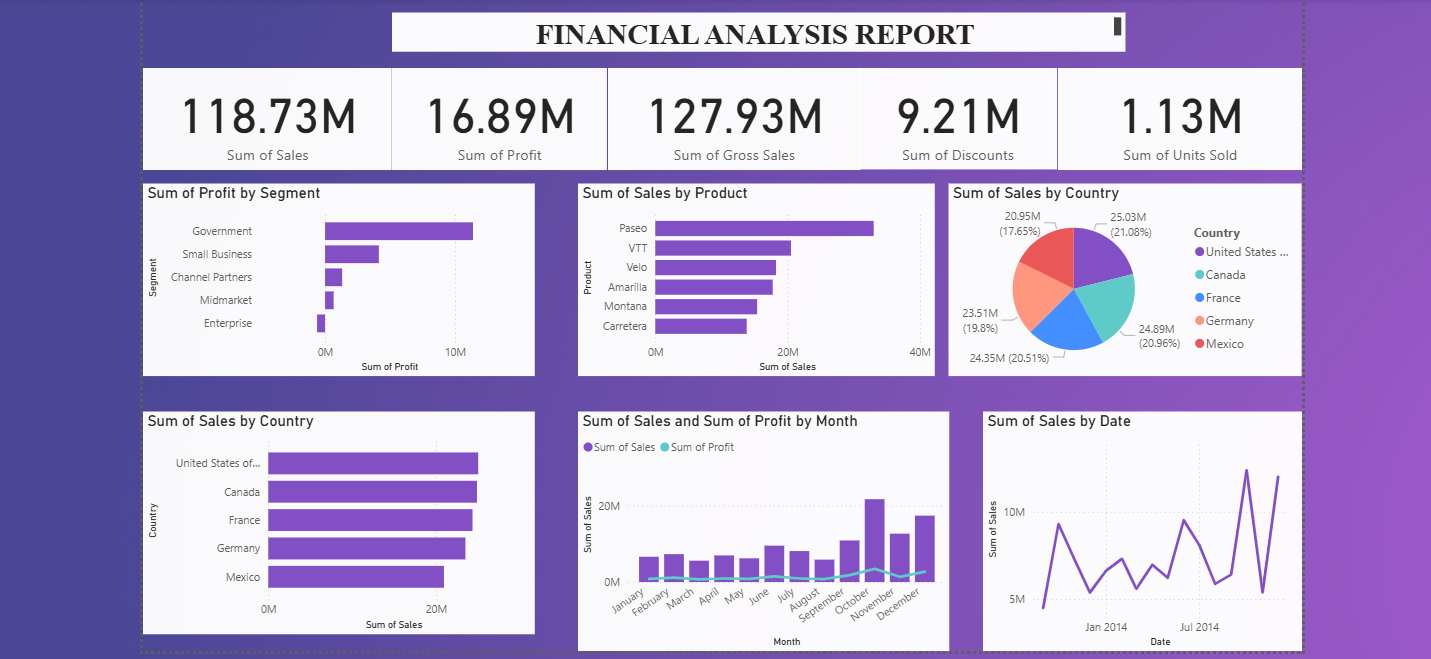

This screenshot's page, from the dashboard's own definition file:
{"tool":"powerbi","page":{"name":"Page 1","canvas":[1280,720],"ordinal":0},"visuals":[{"type":"lineChart","fields":{"Category":["financials.Date"],"Y":["Sum(financials.Sales)"]},"box":[927.5,455,352.5,265],"z":0},{"type":"lineClusteredColumnComboChart","fields":{"Category":["financials.Date.Variation.Date Hierarchy.Month"],"Y":["Sum(financials.Sales)"],"Y2":["Sum(financials.Profit)"]},"box":[480,455,410,265],"z":1000},{"type":"clusteredBarChart","fields":{"Category":["financials.Country"],"Y":["Sum(financials.Sales)"]},"box":[0,455.7,432.9,245.7],"z":2000},{"type":"pieChart","fields":{"Category":["financials.Country"],"Y":["Sum(financials.Sales)"]},"box":[890,204.3,390,212.9],"z":3000},{"type":"clusteredBarChart","fields":{"Category":["financials.Product"],"Y":["Sum(financials.Sales)"]},"box":[480,204.3,394.3,212.9],"z":4000},{"type":"barChart","fields":{"Category":["financials.Segment"],"Y":["Sum(financials.Profit)"]},"box":[0,204.3,432.9,212.9],"z":5000},{"type":"card","fields":{"Values":["Sum(financials.Sales)"]},"box":[0,76.2,275,112.6],"z":6000},{"type":"card","fields":{"Values":["Sum(financials.Profit)"]},"box":[275.7,75.7,237.1,112.9],"z":7000},{"type":"card","fields":{"Values":["Sum(financials.Gross Sales)"]},"box":[512.9,75.7,278.6,112.9],"z":8000},{"type":"card","fields":{"Values":["Sum(financials.Units Sold)"]},"box":[1010,75.7,270,112.9],"z":9000},{"type":"textbox","box":[275,15,810,43.3],"z":10000},{"type":"card","fields":{"Values":["Sum(financials.Discounts)"]},"box":[790.5,76.4,219.6,112.2],"z":11000}]}

Visuals, with their boxes in screenshot pixels (x1, y1, x2, y2):
lineChart - financials.Date x Sum(financials.Sales): rect(980, 407, 1298, 647)
lineClusteredColumnComboChart - financials.Date.Variation.Date Hierarchy.Month x Sum(financials.Sales): rect(575, 407, 946, 647)
clusteredBarChart - financials.Country x Sum(financials.Sales): rect(142, 408, 533, 630)
pieChart - financials.Country x Sum(financials.Sales): rect(946, 181, 1298, 373)
clusteredBarChart - financials.Product x Sum(financials.Sales): rect(575, 181, 931, 373)
barChart - financials.Segment x Sum(financials.Profit): rect(142, 181, 533, 373)
card - Sum(financials.Sales): rect(142, 65, 390, 167)
card - Sum(financials.Profit): rect(391, 65, 605, 167)
card - Sum(financials.Gross Sales): rect(605, 65, 857, 167)
card - Sum(financials.Units Sold): rect(1054, 65, 1298, 167)
textbox: rect(390, 10, 1122, 49)
card - Sum(financials.Discounts): rect(856, 65, 1054, 167)
